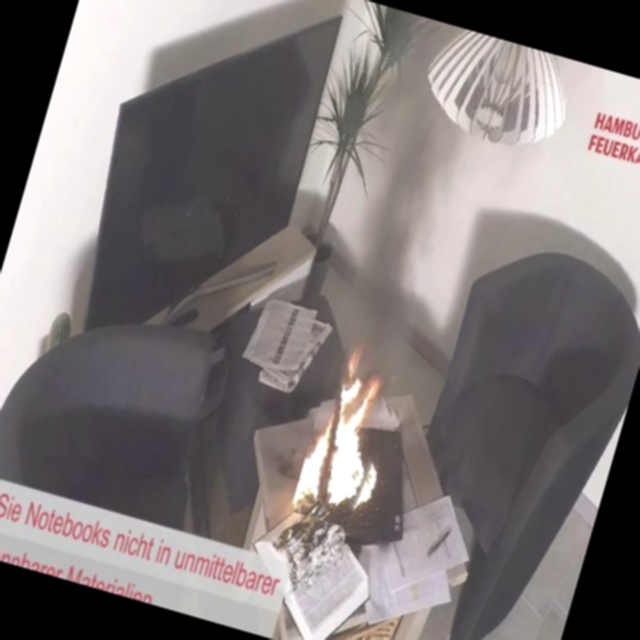fire: (298, 339, 418, 516)
